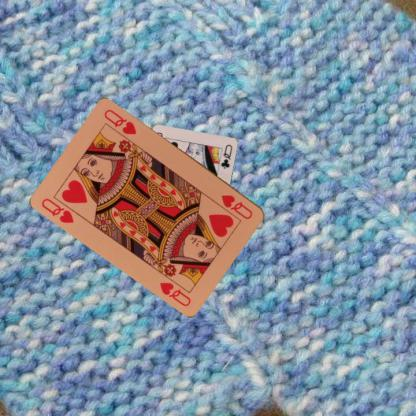Qh: (38, 195, 76, 225), (219, 192, 254, 221)
